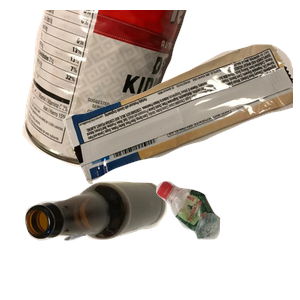glass: (23, 179, 183, 300)
metal: (20, 10, 199, 172)
plastic: (153, 178, 300, 300)
trash: (60, 42, 300, 219)
